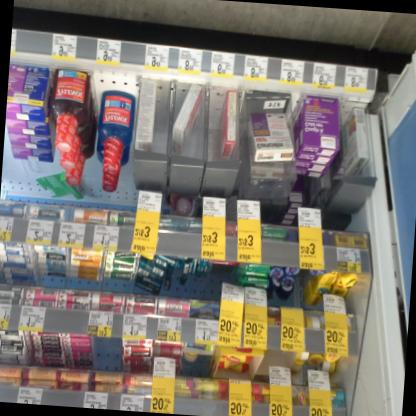empty_space: (95, 68, 139, 97)
